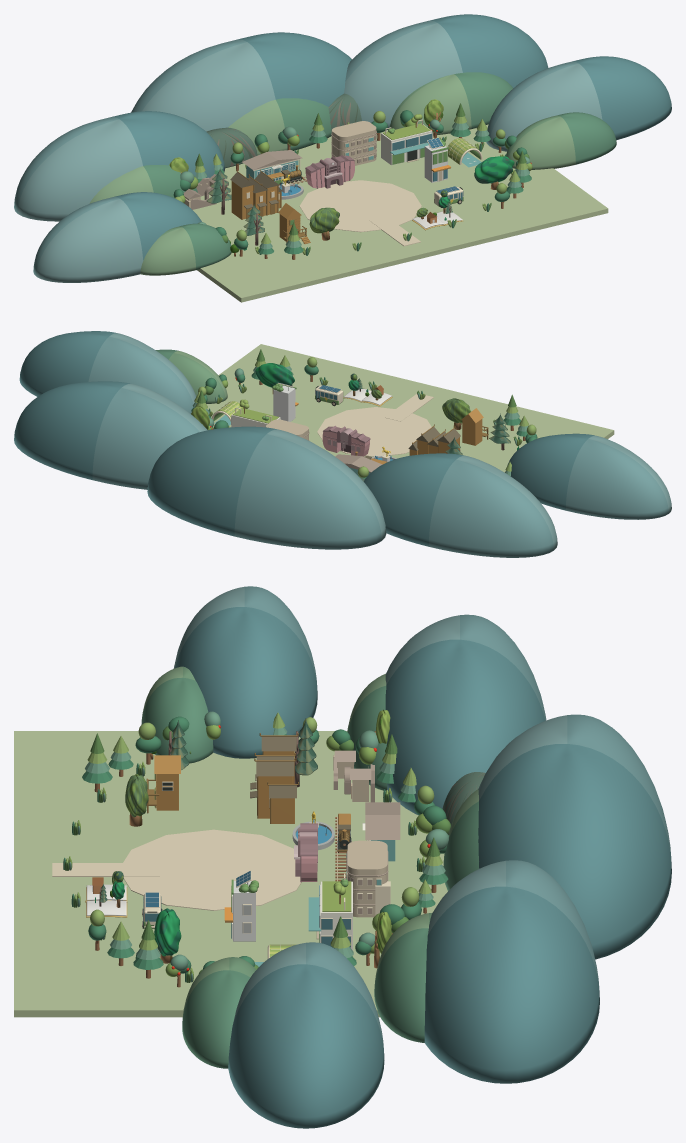
Rendered from chiayi-v3.glb.
The picture shows the model from 3 angles, top to bottom: view 1: azimuth 30°, elevation 25°; view 2: azimuth 150°, elevation 25°; view 3: azimuth 270°, elevation 25°; orthographic projection. The views are drawn at different scales.
Visible parts, largest first — view 1: Town ground, hill_teal.002, hill_teal.001, hill_teal.003, hill_teal.005, hill_teal.004, hill_green.005, Drawing dance plaza, hill_green.003, hill_green.004, hill_green.002, hill_green.001 (+13 smaller); view 2: hill_teal.002, hill_teal.001, hill_teal.003, Town ground, hill_teal.004, hill_teal.005, Drawing dance plaza, hill_green.005, 01_traditional_house, 04_solar_townhouse, 05_rooftop_garden_building, 06_wooden_hut (+7 smaller); view 3: Town ground, hill_teal.003, hill_teal.002, hill_teal.005, hill_teal.001, hill_teal.004, Drawing dance plaza, hill_green.003, hill_green.005, hill_green.004, 01_traditional_house, 07_curved_apartment (+14 smaller).
Boxes of the visible parts, x1,y1,x2,y2 form: Town ground: (193,124,608,302); hill_teal.002: (131,32,351,131); hill_teal.001: (14,111,224,221); hill_teal.003: (344,14,548,130); hill_teal.005: (486,56,671,151); hill_teal.004: (33,192,201,282); hill_green.005: (506,112,616,169); Drawing dance plaza: (299,180,421,232); hill_green.003: (390,72,513,135); hill_green.004: (140,223,231,275); hill_green.002: (228,98,331,155); hill_green.001: (89,165,197,203); hill_teal.002: (147,426,386,549); hill_teal.001: (364,453,557,557); hill_teal.003: (14,381,207,489); Town ground: (206,344,614,472); hill_teal.004: (507,433,671,519); hill_teal.005: (19,331,196,413); Drawing dance plaza: (317,407,431,456); hill_green.005: (155,349,227,403); 01_traditional_house: (408,424,460,455); 04_solar_townhouse: (272,382,298,421); 05_rooftop_garden_building: (231,399,280,427); 06_wooden_hut: (461,408,488,445); Town ground: (14,731,447,1017); hill_teal.003: (424,860,599,1083); hill_teal.002: (478,714,671,959); hill_teal.005: (228,942,384,1128); hill_teal.001: (385,614,546,815); hill_teal.004: (173,586,317,758); Drawing dance plaza: (123,829,301,910); hill_green.003: (374,913,432,1042); hill_green.005: (182,957,255,1068); hill_green.004: (141,666,213,763); 01_traditional_house: (250,733,298,823); 07_curved_apartment: (346,840,390,917).
Size of the model in its own units: 76.3 by 9.6 by 42.8.
144 materials, 7 textured.
